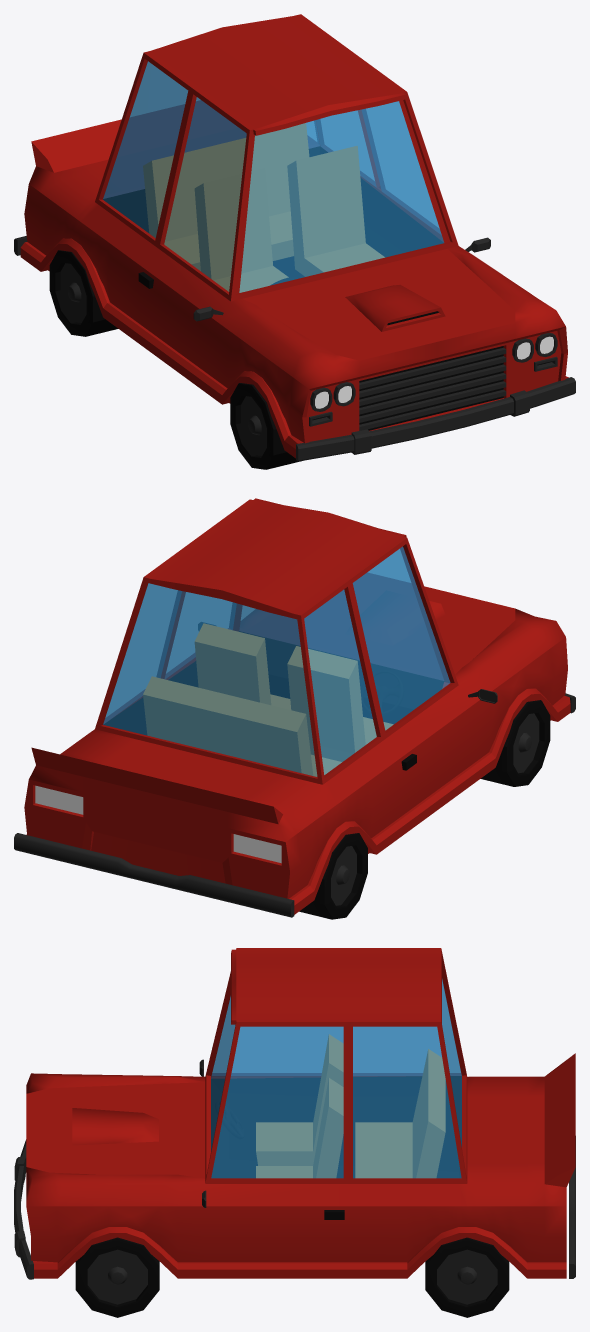
File: CartoonCar.FBX
The picture shows the model from 3 angles, top to bottom: view 1: azimuth 30°, elevation 25°; view 2: azimuth 150°, elevation 25°; view 3: azimuth 270°, elevation 25°; orthographic projection. The views are drawn at different scales.
Parts seen in each view (by area): view 1: CarBody, Windows, Chair, BackSeat, Lattice, Skirts, FrontBumper, DoorSkin, BlackTrim, Tire002, Tire003, LightShroud (+3 smaller); view 2: CarBody, Windows, Chair, BackSeat, Skirts, BackBumper, DoorSkin, Tire002, Tire003, Lights, Rim002, Rim003 (+1 smaller); view 3: CarBody, Windows, DoorSkin, Skirts, Chair, BackSeat, Tire001, Tire, Rim001, Rim, FrontBumper, BackBumper (+1 smaller).
Part boxes in pixels (box(x1,y1,x2,y2)): CarBody: box(24, 14, 567, 443); Windows: box(103, 61, 443, 292); Chair: box(195, 146, 384, 292); BackSeat: box(143, 123, 308, 270); Lattice: box(359, 347, 506, 430); Skirts: box(20, 238, 568, 458); FrontBumper: box(296, 377, 575, 461); DoorSkin: box(103, 146, 443, 277); BlackTrim: box(312, 311, 551, 430); Tire002: box(230, 383, 301, 469); Tire003: box(49, 250, 118, 336); LightShroud: box(309, 333, 557, 426); CarBody: box(24, 498, 567, 898); Windows: box(103, 546, 450, 776); Chair: box(195, 623, 393, 761); BackSeat: box(143, 676, 341, 776); Skirts: box(26, 688, 570, 914); BackBumper: box(14, 833, 294, 917); DoorSkin: box(103, 631, 443, 735); Tire002: box(480, 700, 550, 786); Tire003: box(299, 833, 367, 919); Lights: box(35, 785, 281, 863); Rim002: box(513, 713, 539, 773); Rim003: box(331, 846, 356, 905); CarBody: box(26, 948, 575, 1262); Windows: box(211, 979, 461, 1178); DoorSkin: box(211, 1076, 461, 1177); Skirts: box(33, 1227, 566, 1278); Chair: box(256, 1034, 343, 1177); BackSeat: box(355, 1049, 445, 1177); Tire001: box(425, 1237, 509, 1317); Tire: box(75, 1237, 159, 1317); Rim001: box(437, 1249, 497, 1304); Rim: box(87, 1249, 147, 1304); FrontBumper: box(14, 1139, 33, 1279); BackBumper: box(569, 1136, 575, 1278).
Bounding box in the file's own units: 140 × 128 × 237.
